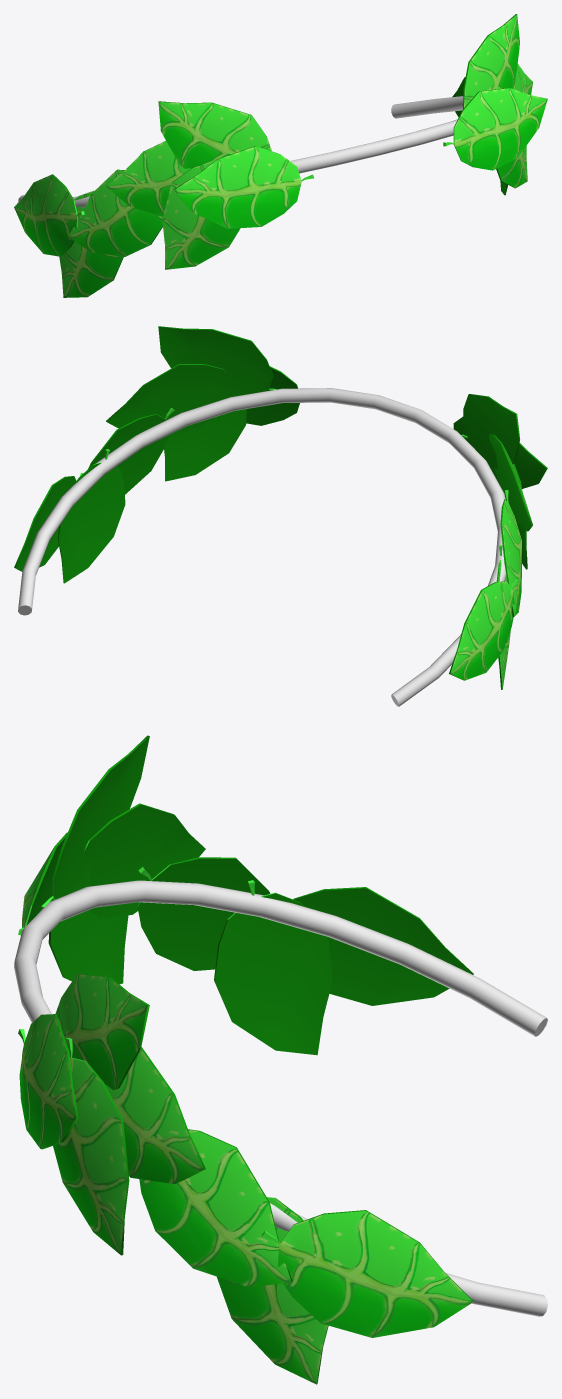
The model's file is LeafCrown(new).fbx.
3 views of the same model, one above another, from view 1: azimuth 30°, elevation 25°; view 2: azimuth 150°, elevation 25°; view 3: azimuth 270°, elevation 25° (orthographic). The views are drawn at different scales.
Parts seen in each view (by area): view 1: Leaf, Gear; view 2: Leaf, Gear; view 3: Leaf, Gear.
Boxes of the visible parts, x1,y1,x2,y2 form: Leaf: (14,14,547,297); Gear: (18,96,463,207); Leaf: (14,326,547,689); Gear: (18,388,506,706); Leaf: (18,735,473,1384); Gear: (14,880,547,1316).
Size of the model in its own units: 4.17 by 1.98 by 2.75.
1 material, 1 textured.
